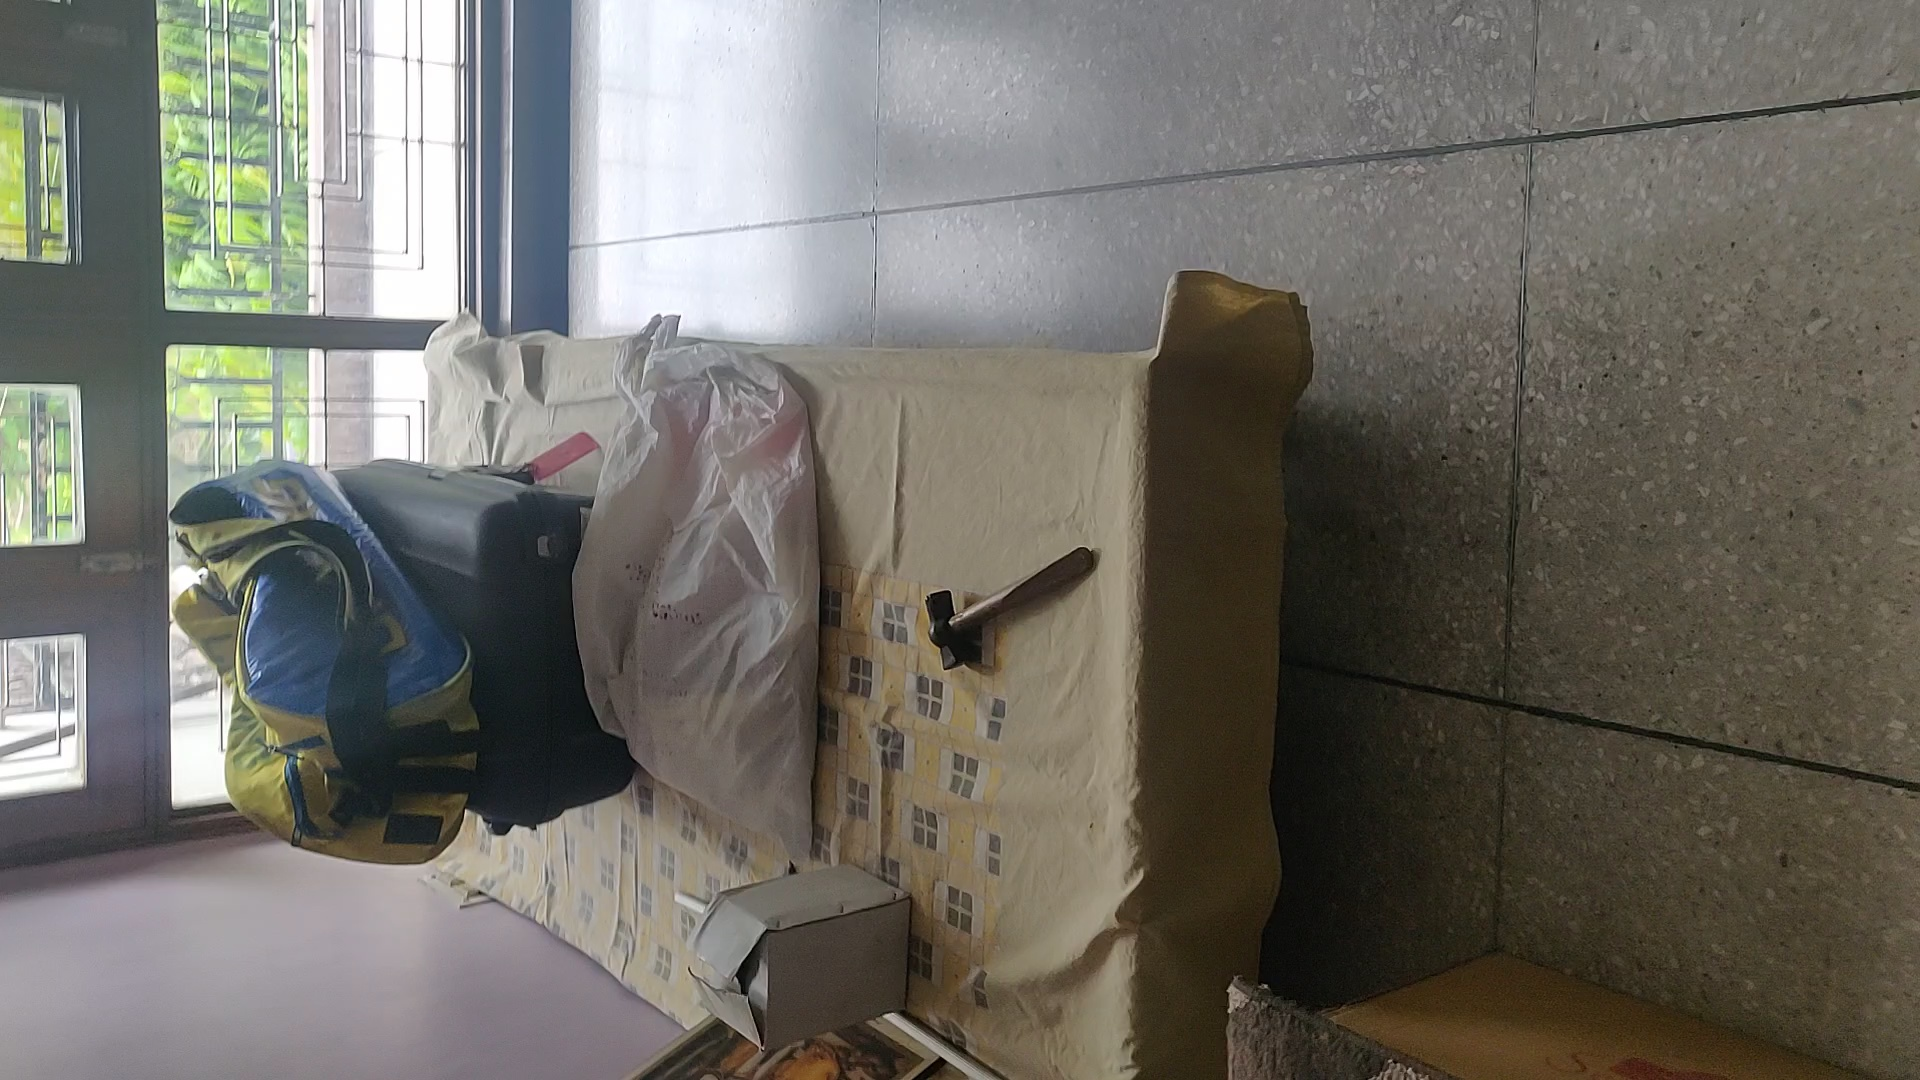hammer: (920, 543, 1100, 674)
